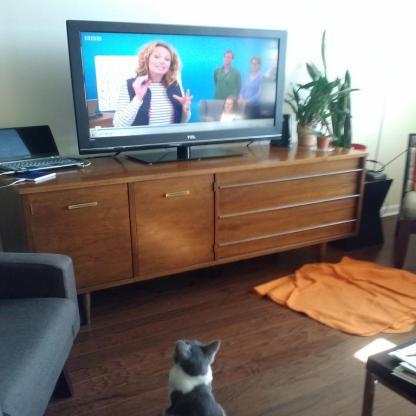board: (0, 123, 82, 172)
